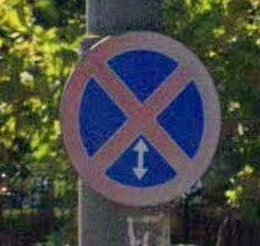oprirea_interzisa: (55, 28, 226, 213)
